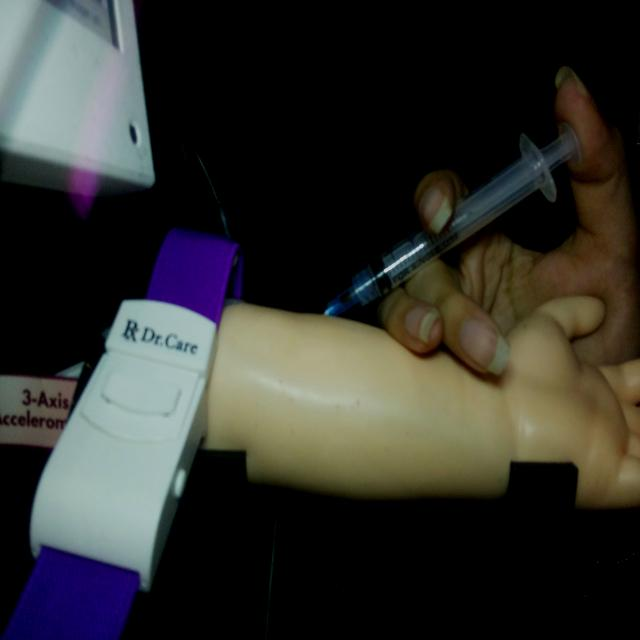26 degrees: (322, 119, 582, 319)
